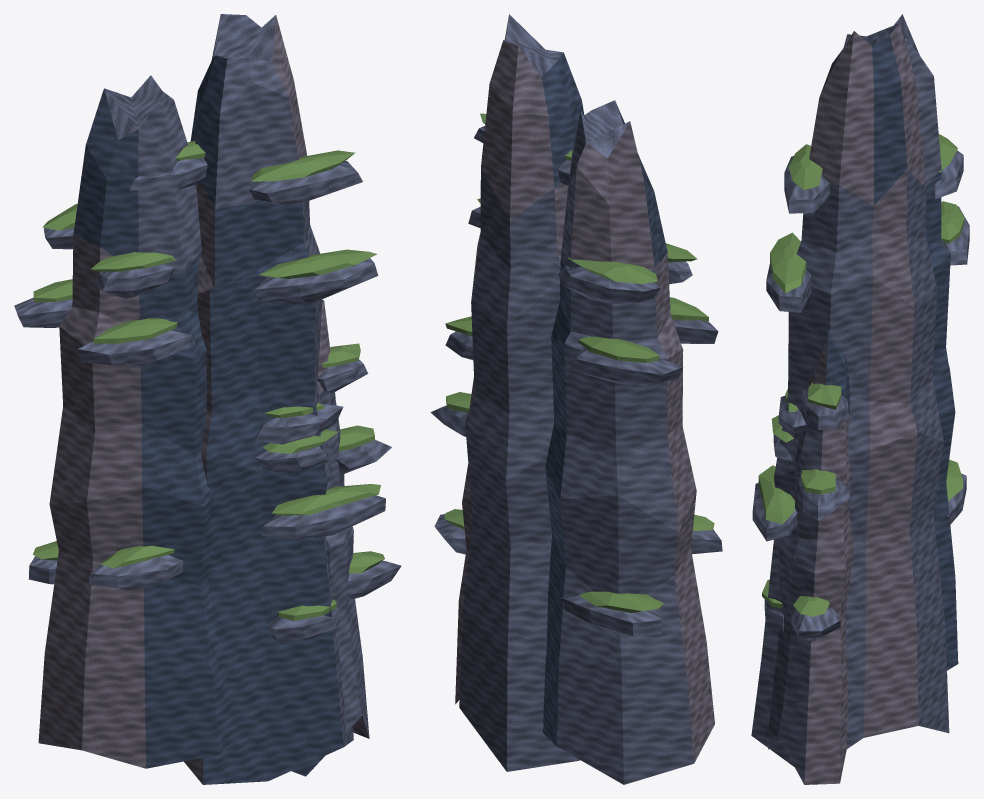
File: weathered-spire.glb
The picture shows the model from 3 angles, left to right: view 1: azimuth 30°, elevation 25°; view 2: azimuth 150°, elevation 25°; view 3: azimuth 270°, elevation 25°; orthographic projection.
Visible parts, largest first — view 1: weathered-spire · Ridge · smoky basalt, weathered-spire · Ridge · weathered lavender, weathered-spire · Ridge · sandstone shoulder, weathered-spire · Ridge · olive canopy; view 2: weathered-spire · Ridge · weathered lavender, weathered-spire · Ridge · sandstone shoulder, weathered-spire · Ridge · smoky basalt, weathered-spire · Ridge · olive canopy; view 3: weathered-spire · Ridge · weathered lavender, weathered-spire · Ridge · sandstone shoulder, weathered-spire · Ridge · smoky basalt, weathered-spire · Ridge · olive canopy.
Boxes of the visible parts, x1,y1,x2,y2 form: weathered-spire · Ridge · smoky basalt: (73,55,343,784); weathered-spire · Ridge · weathered lavender: (14,14,401,746); weathered-spire · Ridge · sandstone shoulder: (38,15,369,784); weathered-spire · Ridge · olive canopy: (33,140,384,620); weathered-spire · Ridge · weathered lavender: (430,14,722,784); weathered-spire · Ridge · sandstone shoulder: (455,18,714,763); weathered-spire · Ridge · smoky basalt: (541,52,667,745); weathered-spire · Ridge · olive canopy: (444,113,714,612); weathered-spire · Ridge · weathered lavender: (751,14,969,784); weathered-spire · Ridge · sandstone shoulder: (804,23,925,784); weathered-spire · Ridge · smoky basalt: (768,36,958,749); weathered-spire · Ridge · olive canopy: (758,134,964,616).
Size of the model in its own units: 8.23 by 18.09 by 4.93.
Materials: 4 (3 with a texture image).
